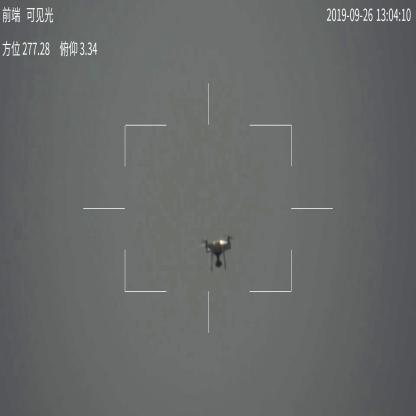uav: (196, 232, 239, 271)
